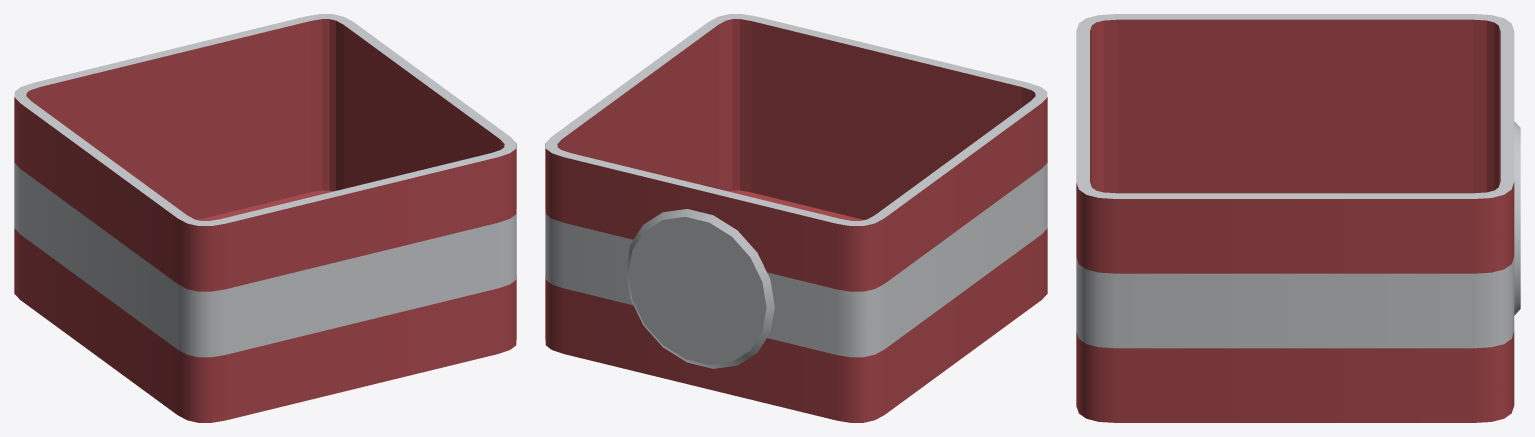
File: Caja-Dados Roja.FBX
3 renders of one model, left to right at view 1: azimuth 30°, elevation 25°; view 2: azimuth 150°, elevation 25°; view 3: azimuth 270°, elevation 25°, orthographic. The views are drawn at different scales.
Visible parts, largest first — view 1: Box004; view 2: Box004; view 3: Box004.
Part boxes in pixels (x1,y1,x2,y2): Box004: [14, 14, 516, 422]; Box004: [545, 14, 1047, 422]; Box004: [1076, 14, 1520, 422].
Size of the model in its own units: 25 by 25.37 by 14.11.
